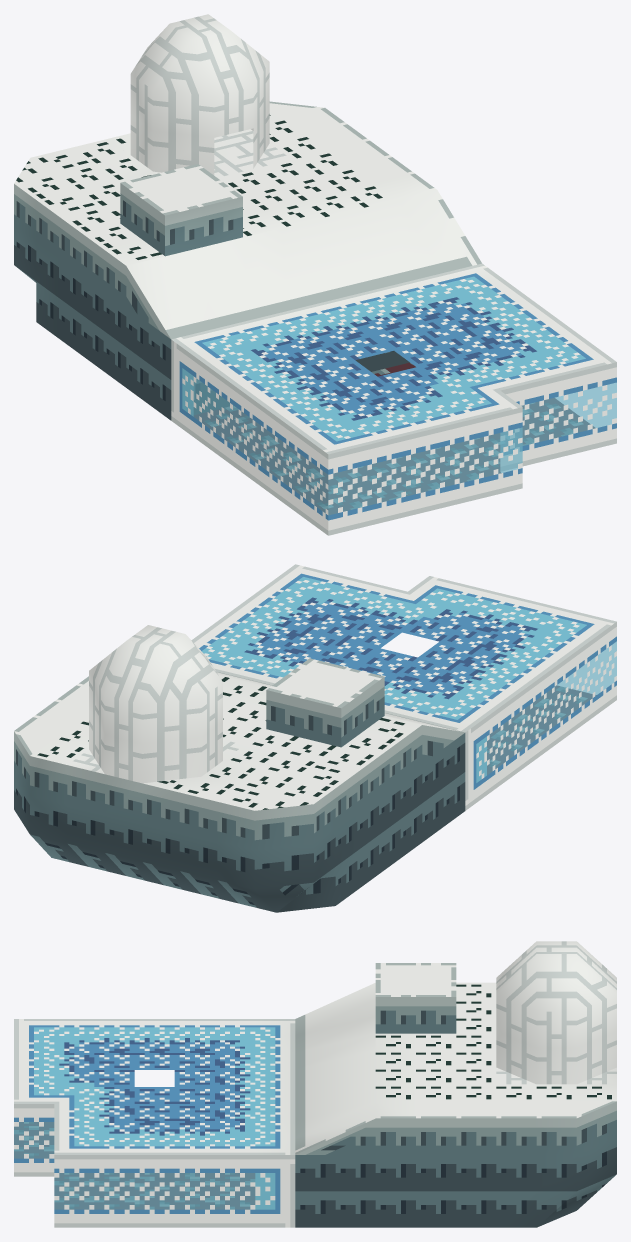
Rendered from snowplace.gltf.
3 views of the same model, one above another, from view 1: azimuth 30°, elevation 25°; view 2: azimuth 150°, elevation 25°; view 3: azimuth 270°, elevation 25° (orthographic). The views are drawn at different scales.
Parts seen in each view (by area): view 1: default; view 2: default; view 3: default.
Boxes of the visible parts, box(x1,y1,x2,y2) form: default: box(14, 14, 616, 535); default: box(14, 564, 616, 912); default: box(14, 941, 616, 1227).
Size of the model in its own units: 4 by 3 by 7.5.
1 material, 1 textured.
